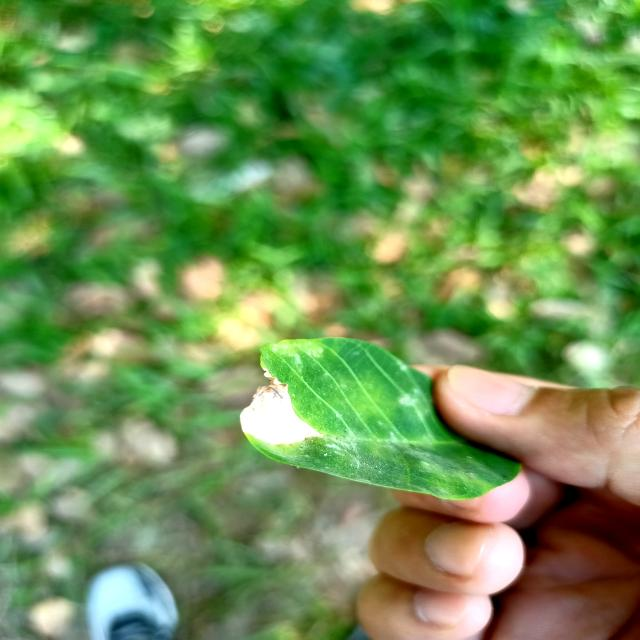Leaf-Blight: (240, 368, 316, 446)
